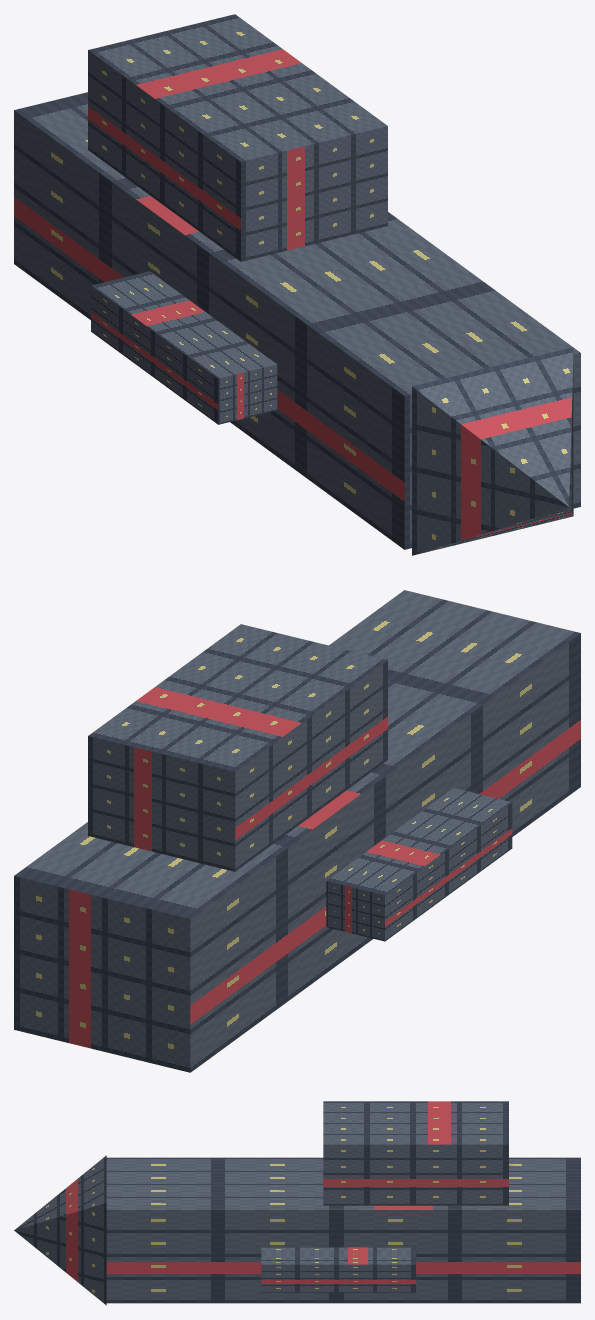
3 renders of one model, top to bottom at view 1: azimuth 30°, elevation 25°; view 2: azimuth 150°, elevation 25°; view 3: azimuth 270°, elevation 25°, orthographic. The views are drawn at different scales.
Visible parts, largest first — view 1: hull; view 2: hull; view 3: hull.
Part boxes in pixels (x1,y1,x2,y2): hull: (14, 14, 580, 555); hull: (14, 590, 580, 1072); hull: (14, 1101, 580, 1305).
Size of the model in its own units: 1.72 by 1.47 by 4.74.
Materials: 1 (1 with a texture image).
